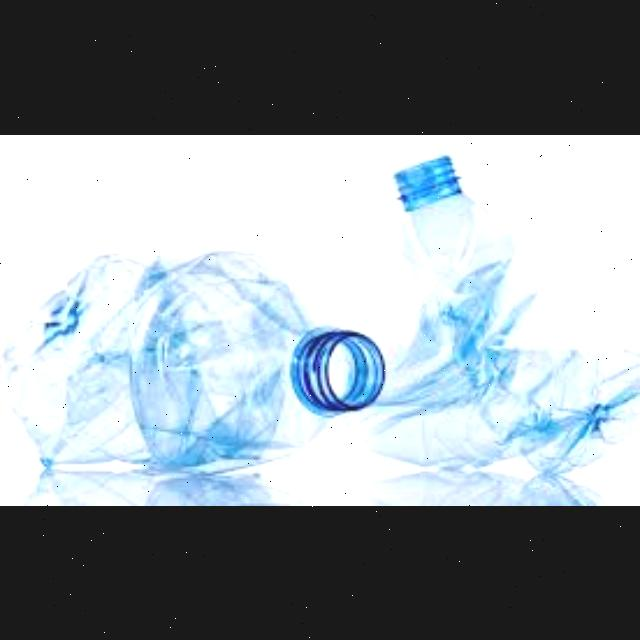trash: (0, 238, 385, 479), (348, 152, 640, 468)
